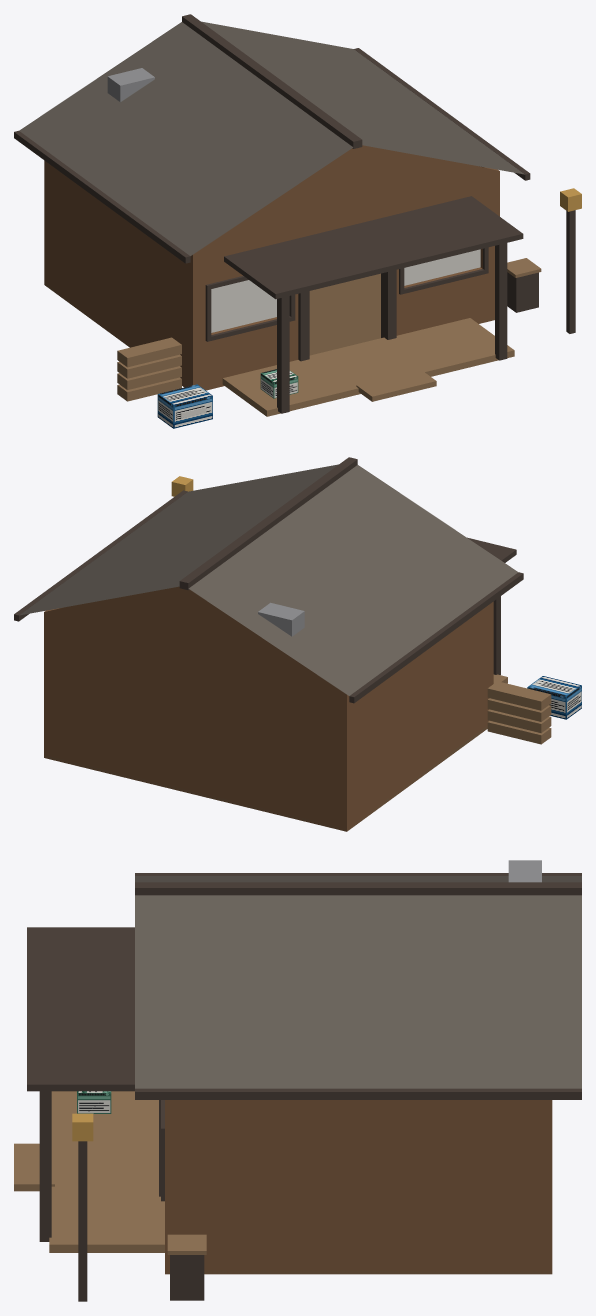
The model's file is rv_cabin.gltf.
3 views of the same model, one above another, from view 1: azimuth 30°, elevation 25°; view 2: azimuth 150°, elevation 25°; view 3: azimuth 270°, elevation 25° (orthographic). The views are drawn at different scales.
Visible parts, largest first — view 1: RV_Cabin; view 2: RV_Cabin; view 3: RV_Cabin.
Part boxes in pixels (x1,y1,x2,y2): RV_Cabin: (14, 14, 581, 428); RV_Cabin: (14, 457, 581, 831); RV_Cabin: (14, 860, 581, 1301).
Size of the model in its own units: 8.39 by 4.93 by 7.62.
12 materials, 1 textured.
